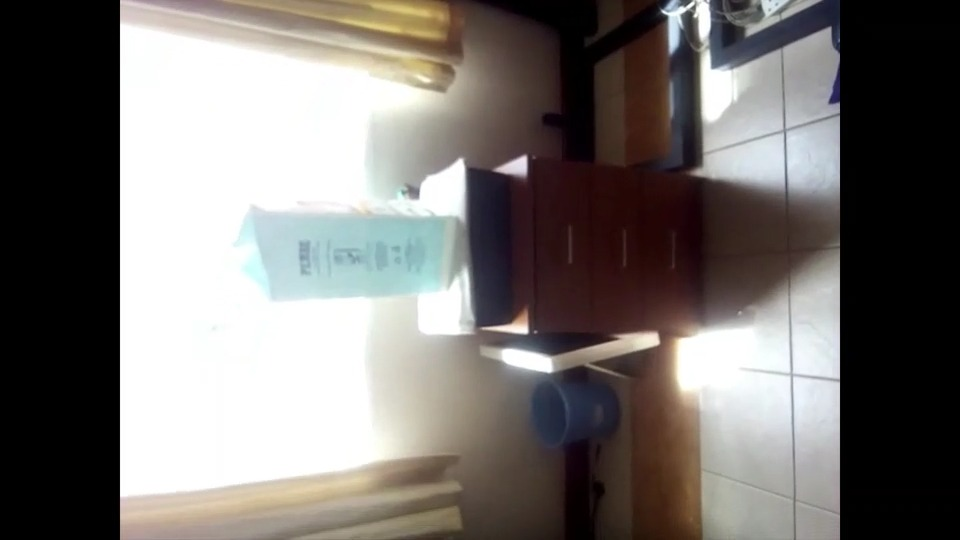wheat_flour_blue_label: (244, 193, 454, 288)
